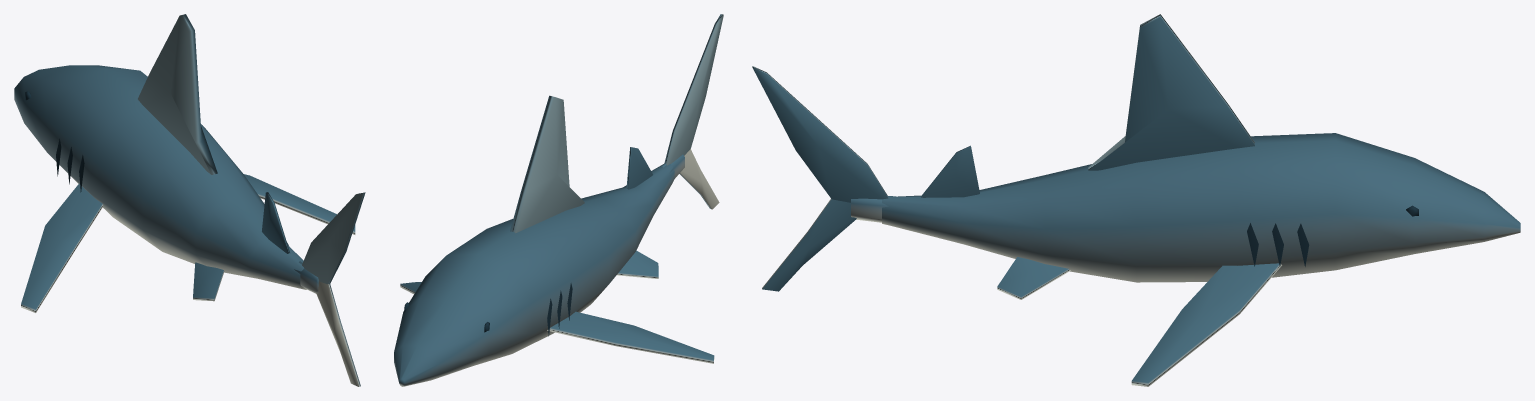
File: shark.glb
3 renders of one model, left to right at view 1: azimuth 30°, elevation 25°; view 2: azimuth 150°, elevation 25°; view 3: azimuth 270°, elevation 25°, orthographic. The views are drawn at different scales.
Visible parts, largest first — view 1: body_surface, anim_flipper_L_surface, anim_tail_surface, anim_flipper_R_surface; view 2: body_surface, anim_tail_surface, anim_flipper_L_surface; view 3: body_surface, anim_tail_surface, anim_flipper_R_surface.
Part boxes in pixels (box(x1,y1,x2,y2)): body_surface: box(14, 14, 306, 301); anim_flipper_L_surface: box(21, 184, 103, 312); anim_tail_surface: box(294, 192, 365, 386); anim_flipper_R_surface: box(244, 174, 355, 234); body_surface: box(394, 95, 674, 386); anim_tail_surface: box(662, 14, 723, 209); anim_flipper_L_surface: box(547, 311, 714, 363); body_surface: box(882, 14, 1520, 299); anim_tail_surface: box(752, 66, 896, 291); anim_flipper_R_surface: box(1131, 263, 1281, 386).
Size of the model in its own units: 1.81 by 1.29 by 3.2.
